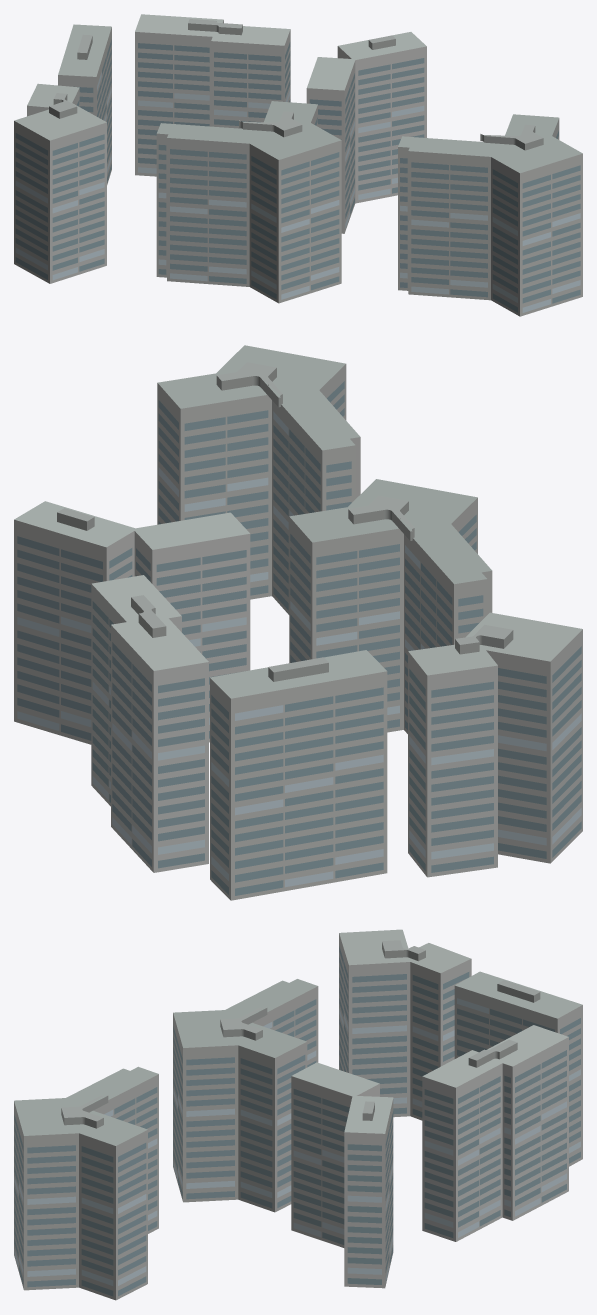
File: apt-a13778201.glb
The picture shows the model from 3 angles, top to bottom: view 1: azimuth 30°, elevation 25°; view 2: azimuth 150°, elevation 25°; view 3: azimuth 270°, elevation 25°; orthographic projection. The views are drawn at different scales.
Visible parts, largest first — view 1: apt-a13778201; view 2: apt-a13778201; view 3: apt-a13778201.
Boxes of the visible parts, x1,y1,x2,y2 form: apt-a13778201: [14, 14, 582, 316]; apt-a13778201: [14, 345, 582, 900]; apt-a13778201: [14, 929, 582, 1300].
Bounding box in the file's own units: 129 × 45 × 144.
